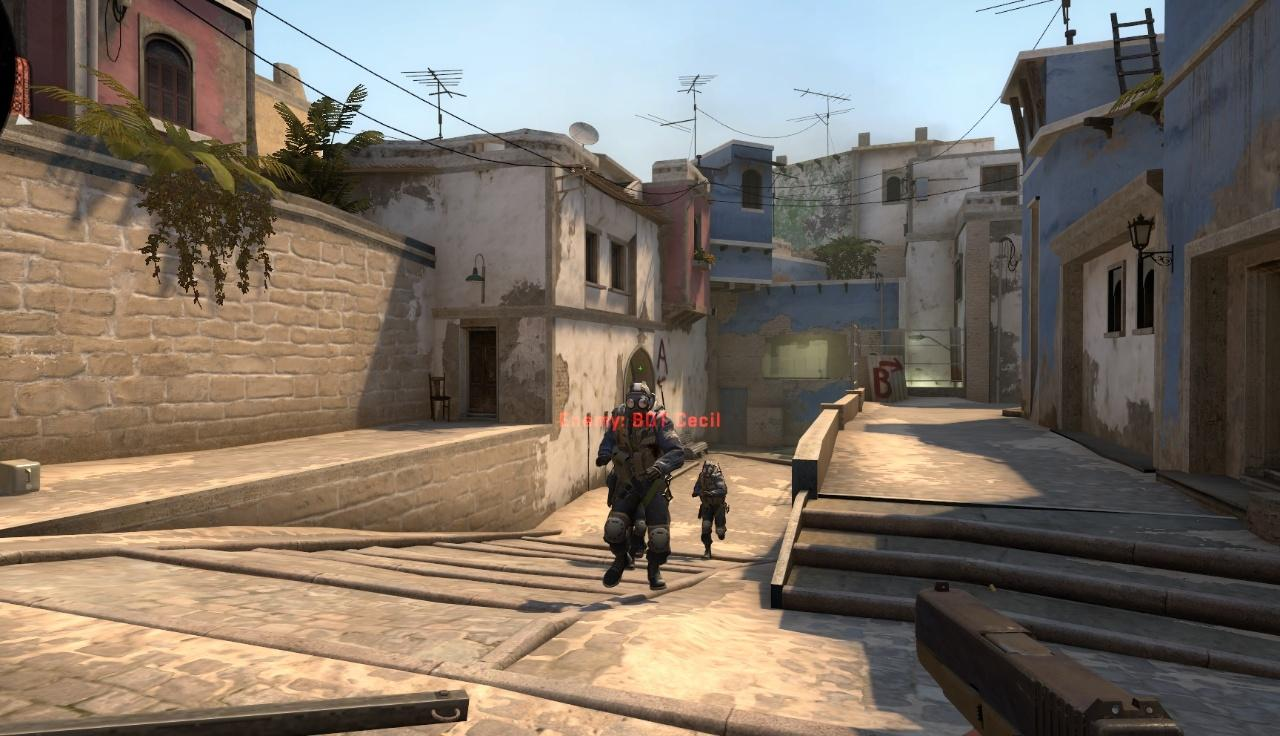ct: (596, 381, 685, 591), (692, 462, 730, 559)
cthead: (626, 383, 653, 416), (702, 461, 718, 480)
pistol: (913, 580, 1193, 736)
